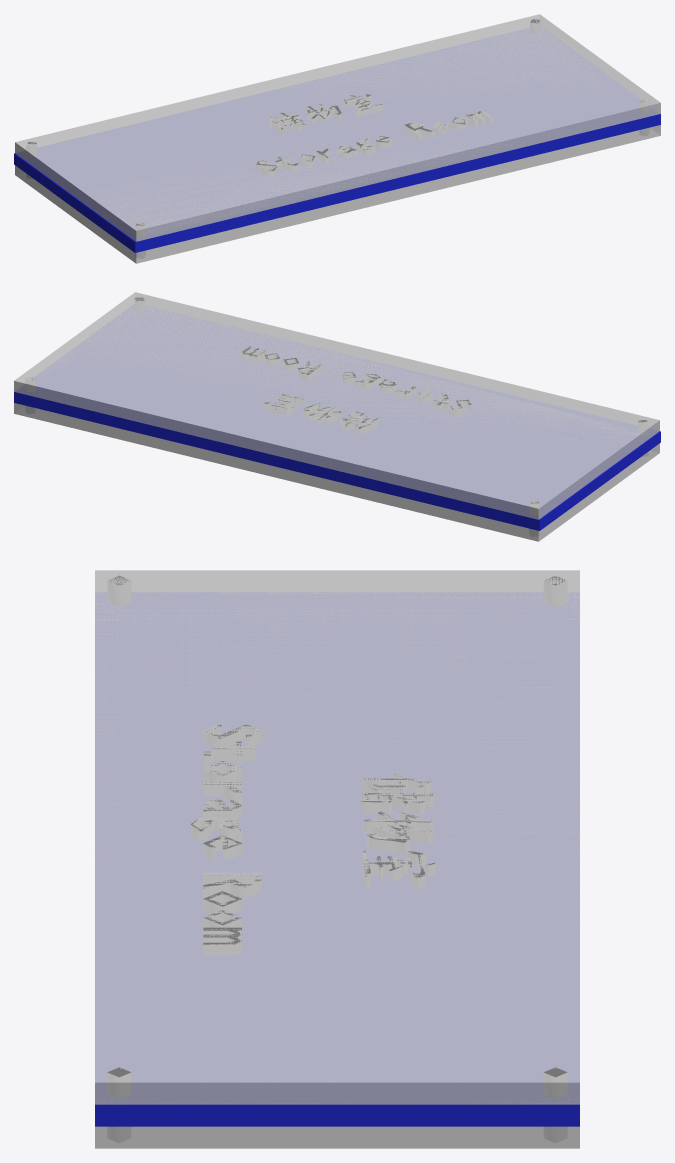
File: 储物室门牌.fbx
3 views of the same model, one above another, from view 1: azimuth 30°, elevation 25°; view 2: azimuth 150°, elevation 25°; view 3: azimuth 270°, elevation 25° (orthographic). The views are drawn at different scales.
Visible parts, largest first — view 1: 物件_58, 物件_53, 物件_57; view 2: 物件_58, 物件_53, 物件_57; view 3: 物件_58, 物件_57, 物件_53.
Part boxes in pixels (left/top/right/bottom): 物件_58: left=15, top=14, right=660, bottom=241; 物件_53: left=14, top=114, right=660, bottom=252; 物件_57: left=15, top=125, right=660, bottom=263; 物件_58: left=14, top=292, right=659, bottom=519; 物件_53: left=14, top=392, right=660, bottom=530; 物件_57: left=14, top=403, right=659, bottom=541; 物件_58: left=95, top=570, right=579, bottom=1104; 物件_57: left=95, top=1126, right=579, bottom=1148; 物件_53: left=95, top=1104, right=579, bottom=1126.
Bounding box in the file's own units: 50.1 × 20 × 3.
